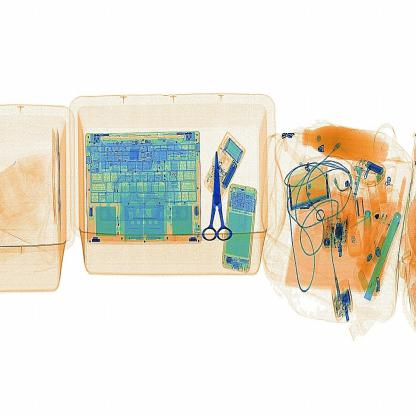gun: (203, 144, 242, 250)
